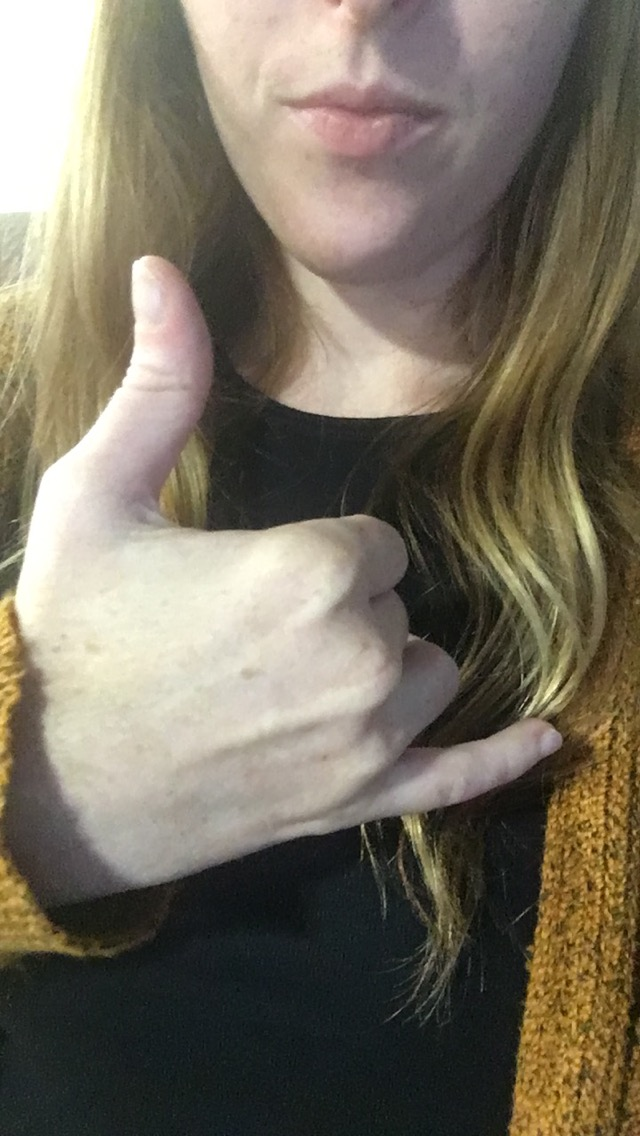defaultd: (16, 255, 564, 904)
